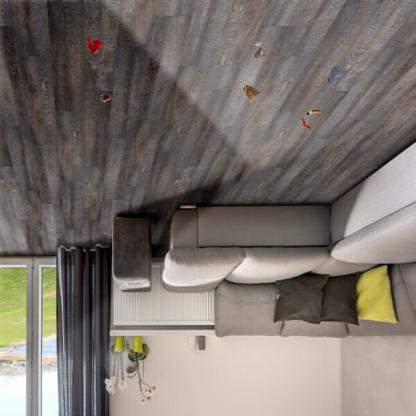dirty: (241, 83, 261, 103), (252, 40, 268, 61), (299, 116, 313, 130), (305, 107, 322, 117), (98, 92, 112, 103)
liquid: (86, 36, 104, 54), (328, 66, 342, 83)
